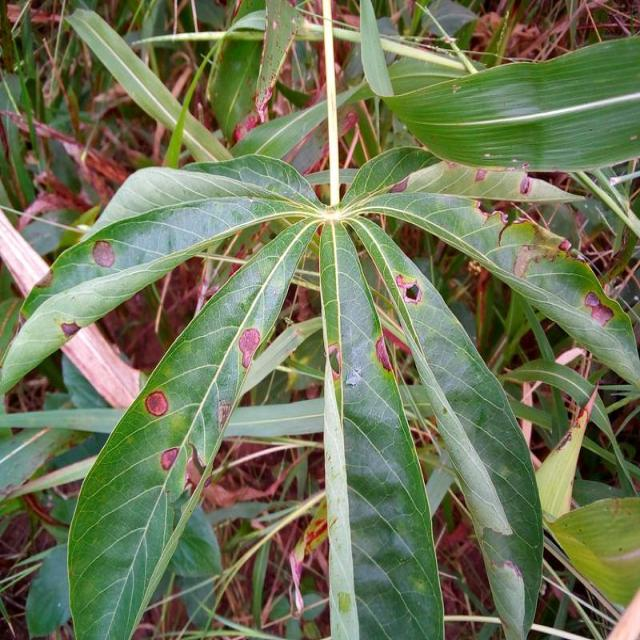cassava leaf: (3, 1, 638, 638), (66, 210, 320, 638), (342, 212, 544, 638), (318, 216, 444, 638), (378, 32, 638, 171)
